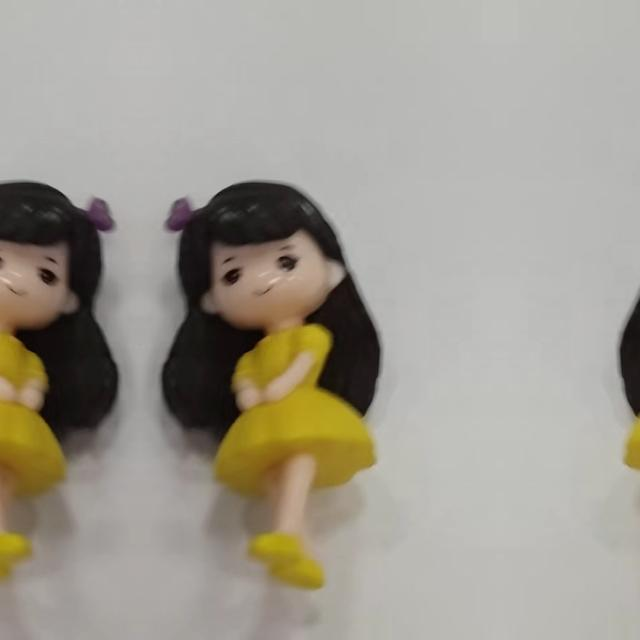woman dress: (162, 310, 380, 570), (0, 310, 118, 570), (619, 310, 640, 570)
woman head: (160, 160, 370, 342), (0, 160, 120, 341), (629, 160, 640, 341)
